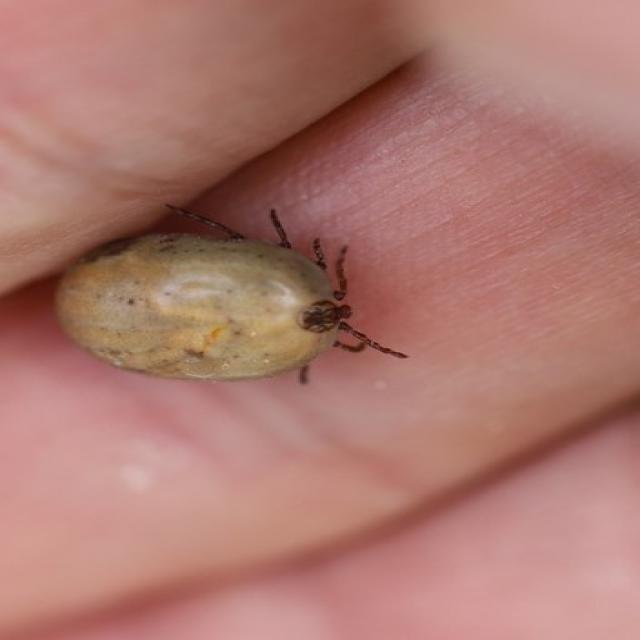Dermacentor Reticulatus-F-Fed: (55, 204, 409, 385)
